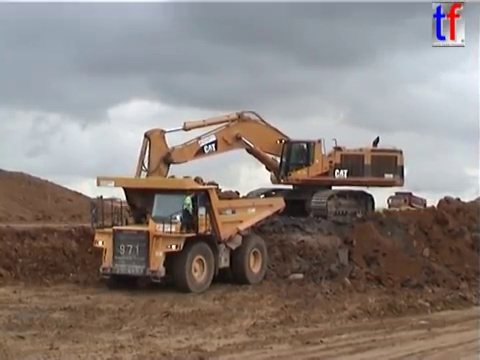truck: (122, 108, 407, 235), (88, 174, 287, 295), (385, 190, 428, 216)
worker: (178, 189, 197, 234)
